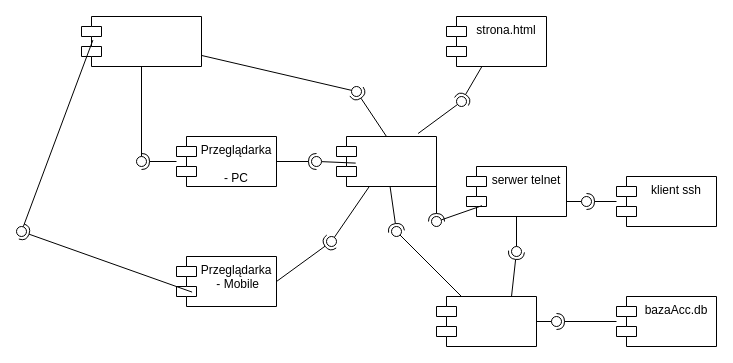
This 733x363 diagram has some shape labels left out. The shapes that lost their labels are listed below. From the top down, each one's centre as x and y in pixels, then its label:
[141,41]: szyfrowanie SSL
[386,161]: serwer WWW apache
[486,321]: MsAccess Jet
